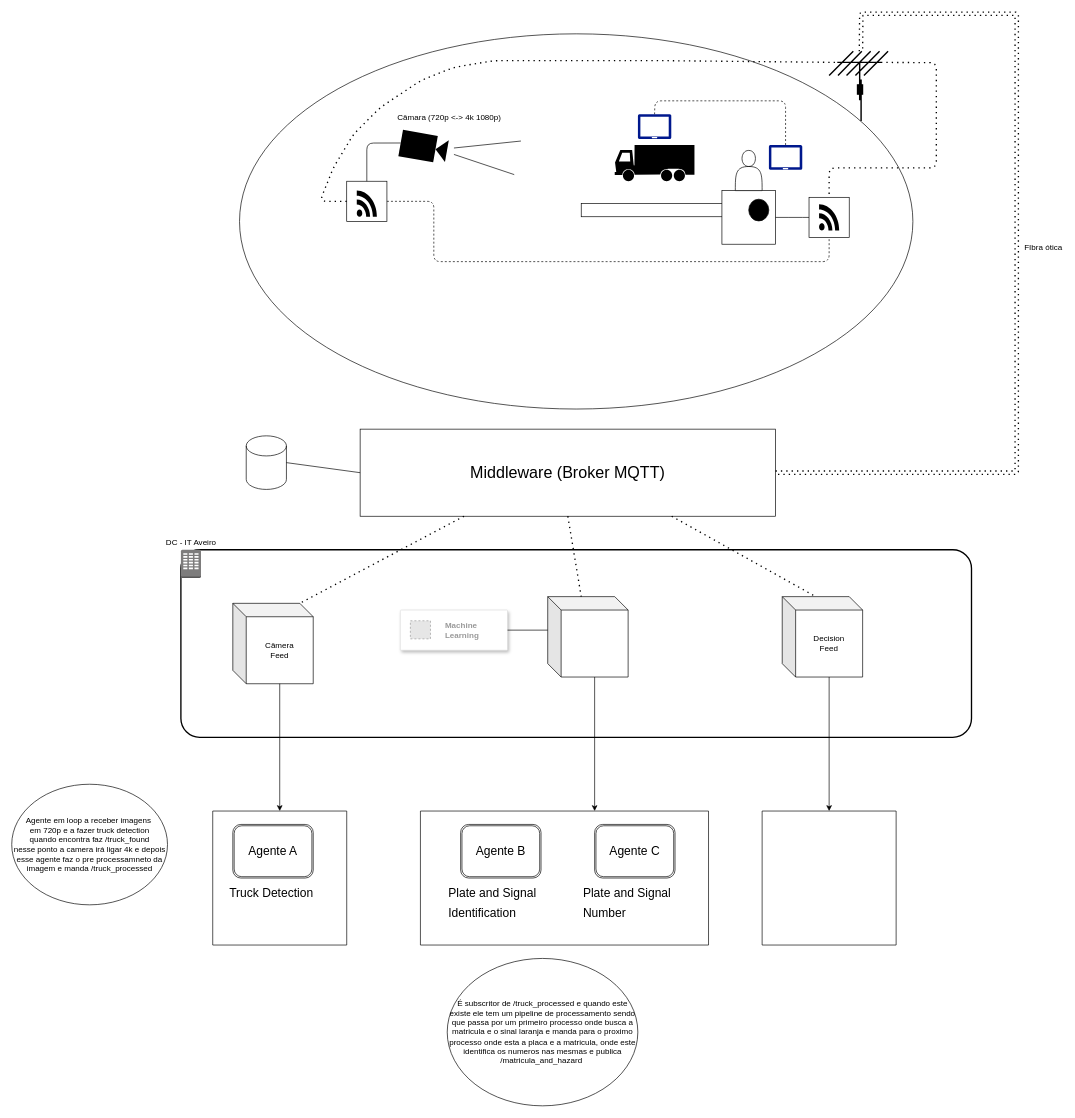
Some shapes in this 1075 by 1118 pixel diagram are drawn without their labels. Grey dashed boxes stand in for pictures. Here are the shapes that lost their labels. From the top down, the centre of each, then its label:
At (858,85): "Antena 5G".
At (655,210): "Cancela do porto".
At (266,462): "Cache Global".
At (587,636): "Agentes".
